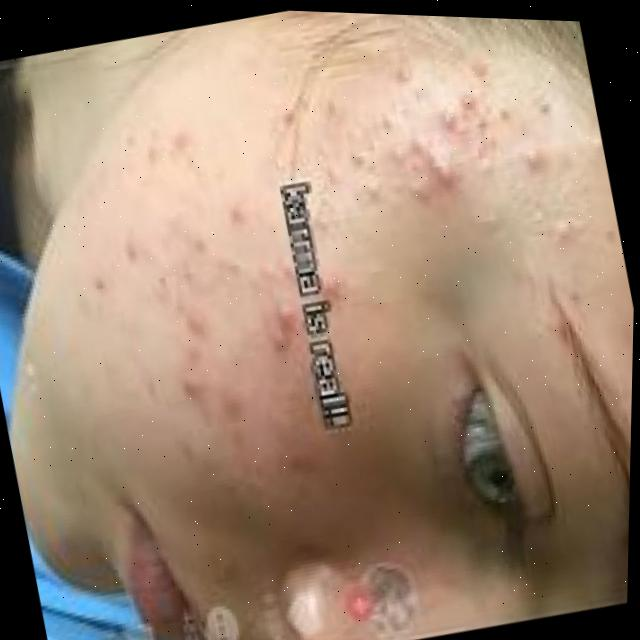Acne: (132, 74, 526, 453)
